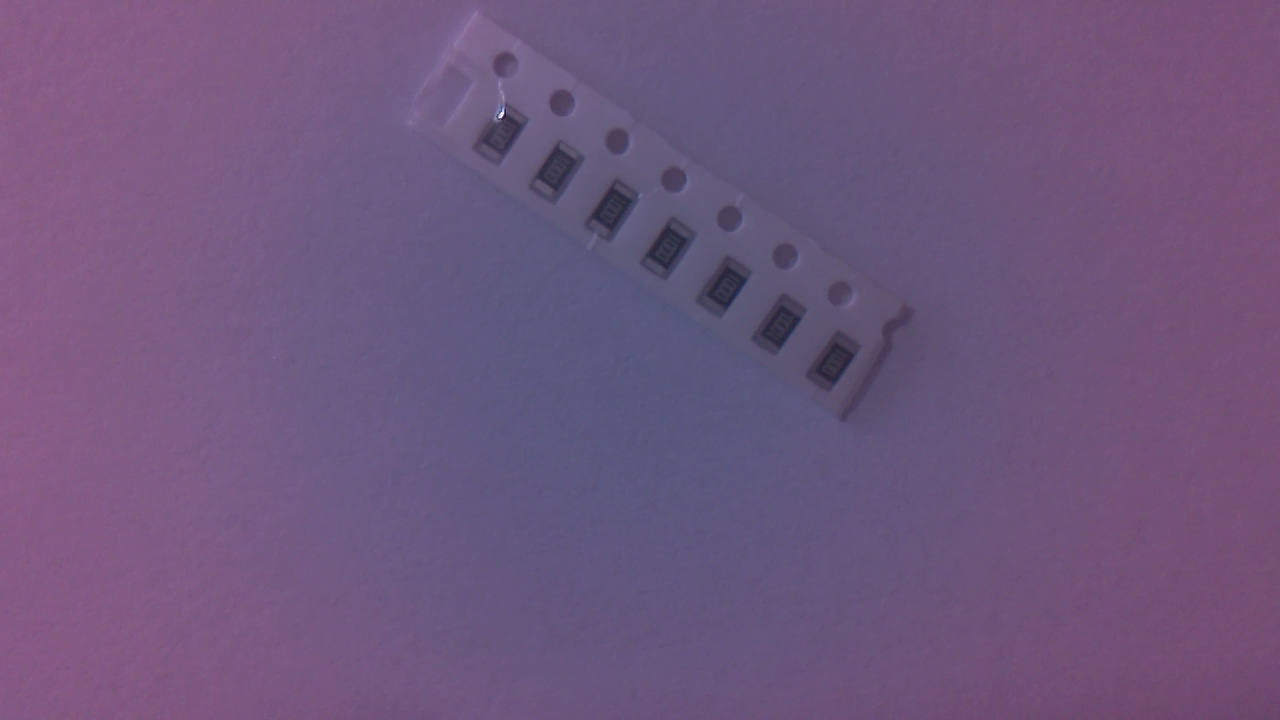Resistor: (587, 180, 646, 248), (702, 259, 759, 326), (645, 219, 703, 284), (477, 107, 533, 173), (756, 297, 814, 360), (534, 144, 589, 208), (812, 333, 867, 394)
